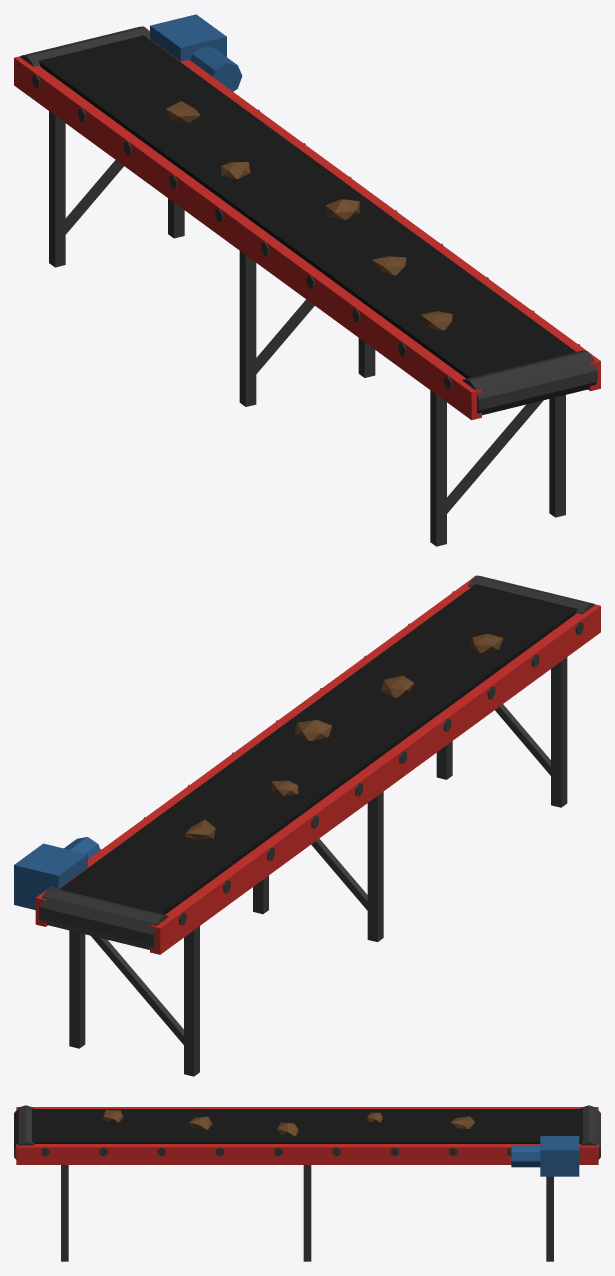
The model's file is Mining_Conveyor.fbx.
The picture shows the model from 3 angles, top to bottom: view 1: azimuth 30°, elevation 25°; view 2: azimuth 150°, elevation 25°; view 3: azimuth 270°, elevation 25°; orthographic projection. The views are drawn at different scales.
Parts seen in each view (by area): view 1: Mining_Conveyor; view 2: Mining_Conveyor; view 3: Mining_Conveyor.
Boxes of the visible parts, left/top/right/bottom form: Mining_Conveyor: left=14, top=14, right=600, bottom=546; Mining_Conveyor: left=14, top=575, right=600, bottom=1076; Mining_Conveyor: left=14, top=1105, right=600, bottom=1261.
Size of the model in its own units: 1.27 by 1.42 by 6.05.
